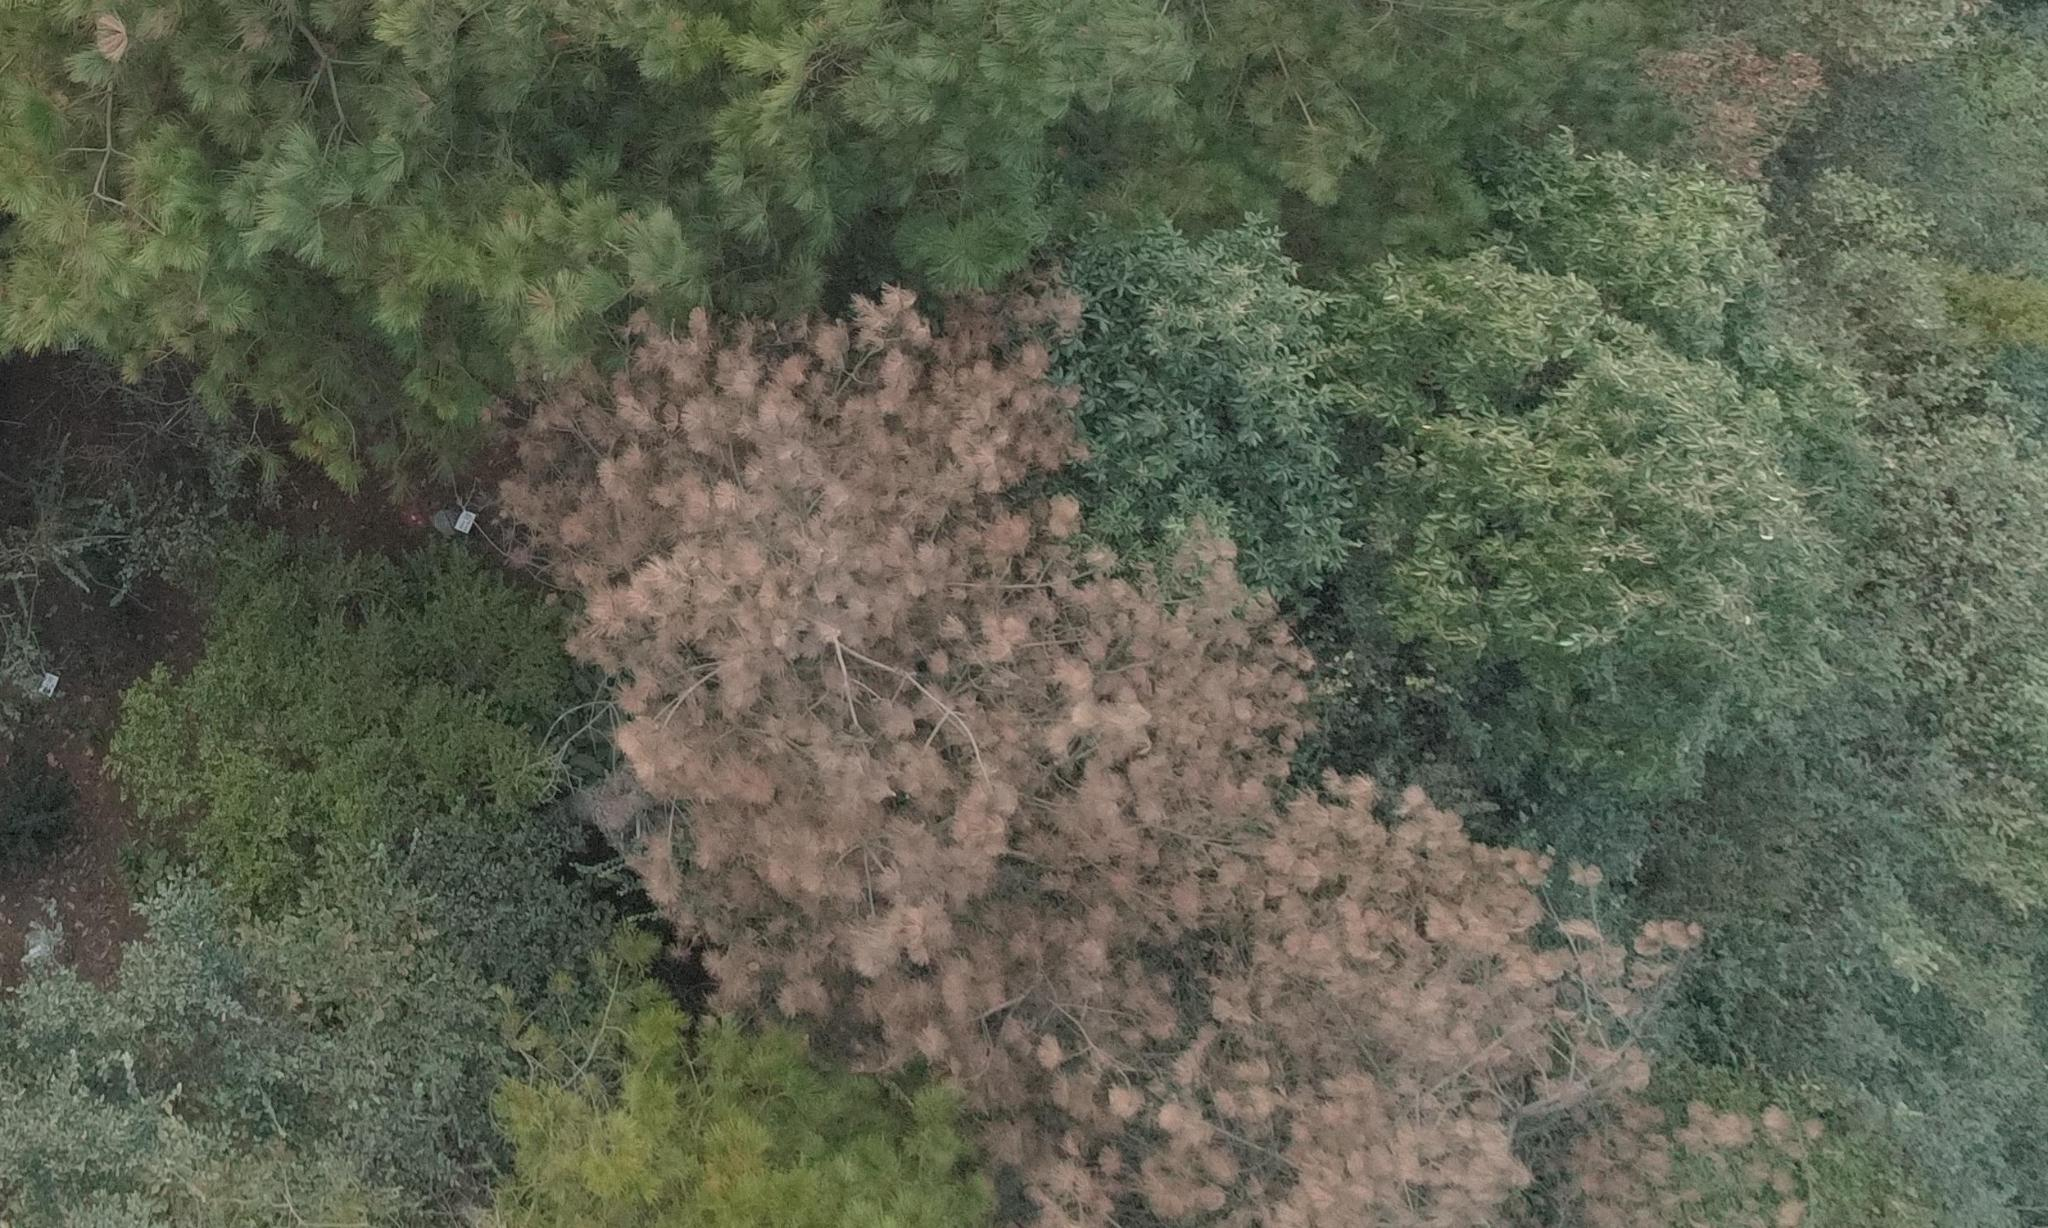heavy: (492, 305, 1752, 1217)
